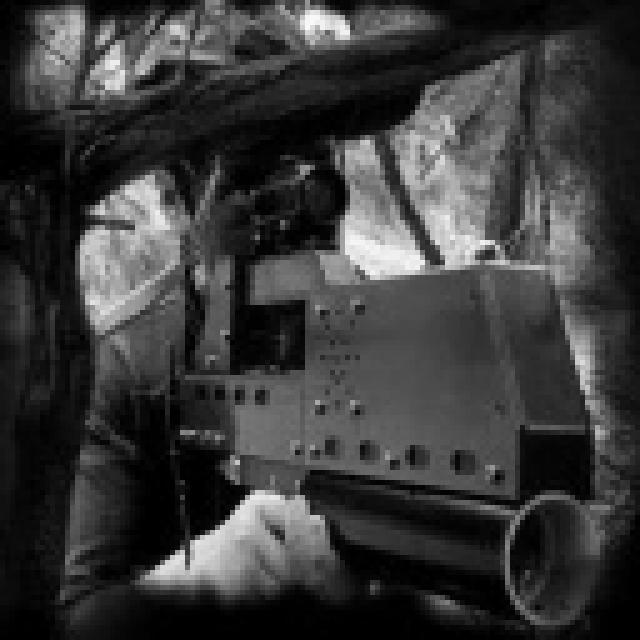Rifle: (126, 173, 640, 640)
